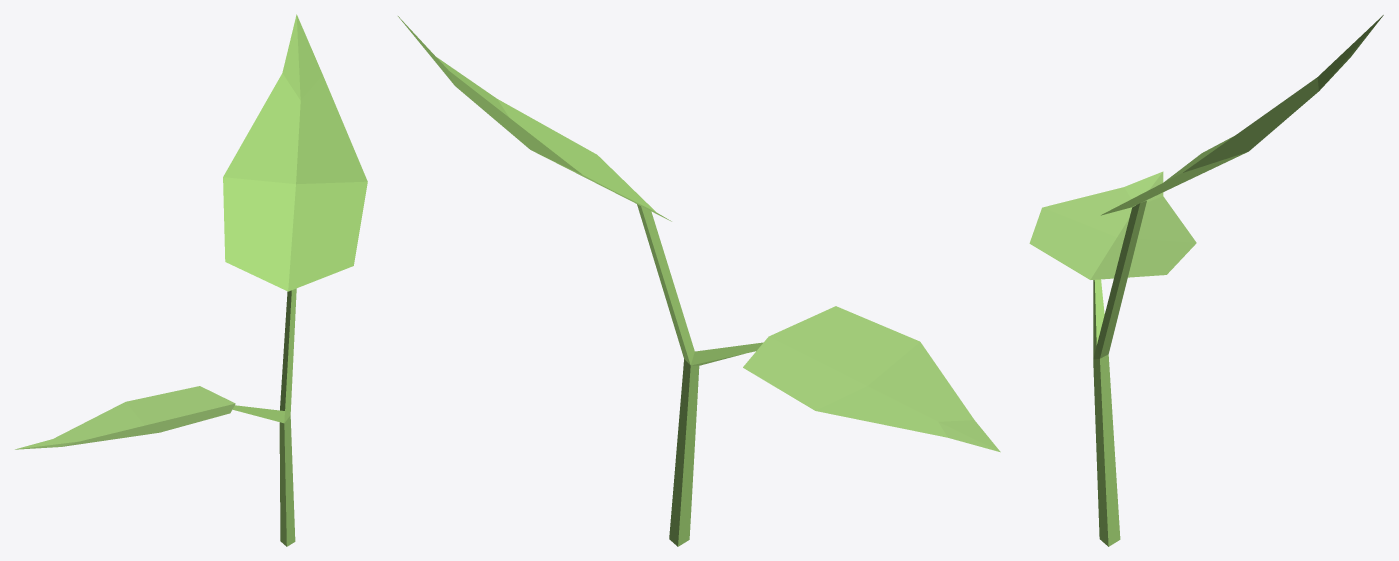
Rendered from Plant_f_TwoS_04.fbx.
The picture shows the model from 3 angles, left to right: view 1: azimuth 30°, elevation 25°; view 2: azimuth 150°, elevation 25°; view 3: azimuth 270°, elevation 25°; orthographic projection. The views are drawn at different scales.
Parts seen in each view (by area): view 1: Plant_f_TwoS_04; view 2: Plant_f_TwoS_04; view 3: Plant_f_TwoS_04.
Boxes of the visible parts, x1,y1,x2,y2 form: Plant_f_TwoS_04: (15, 14, 367, 546); Plant_f_TwoS_04: (398, 16, 1000, 546); Plant_f_TwoS_04: (1029, 15, 1383, 546).
Bounding box in the file's own units: 53.53 × 60.53 × 32.4.
